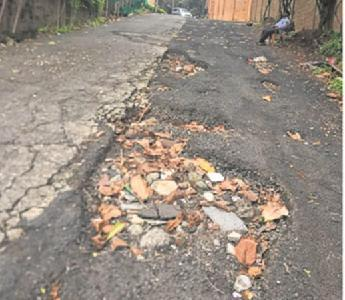pothole: (74, 103, 295, 300), (155, 50, 211, 79), (245, 53, 279, 73), (261, 78, 280, 92)
